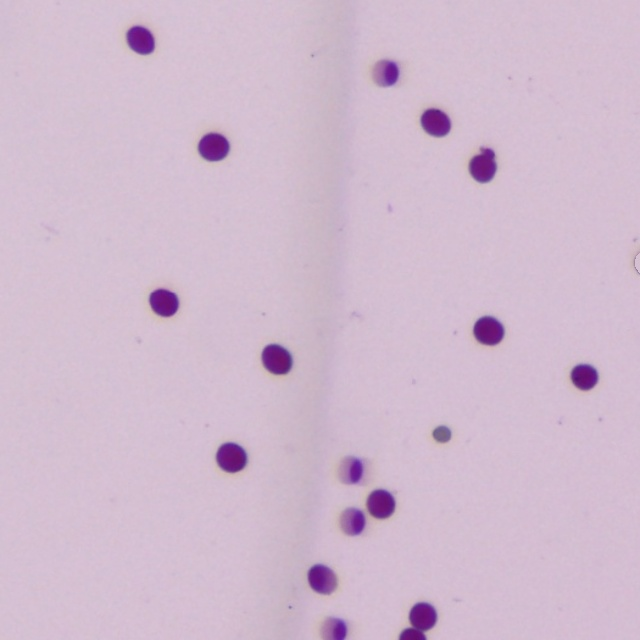intermediate: (377, 60, 399, 85), (341, 509, 363, 533), (345, 458, 363, 482), (325, 618, 346, 638)
non_viable: (432, 425, 450, 442)
viable: (216, 442, 246, 472), (469, 148, 495, 182), (262, 344, 291, 373), (473, 316, 503, 344), (420, 108, 450, 135), (307, 564, 335, 592), (199, 133, 228, 160), (127, 25, 154, 54), (150, 289, 178, 316), (570, 364, 597, 389), (368, 491, 393, 516), (411, 604, 434, 630), (401, 629, 422, 637)
